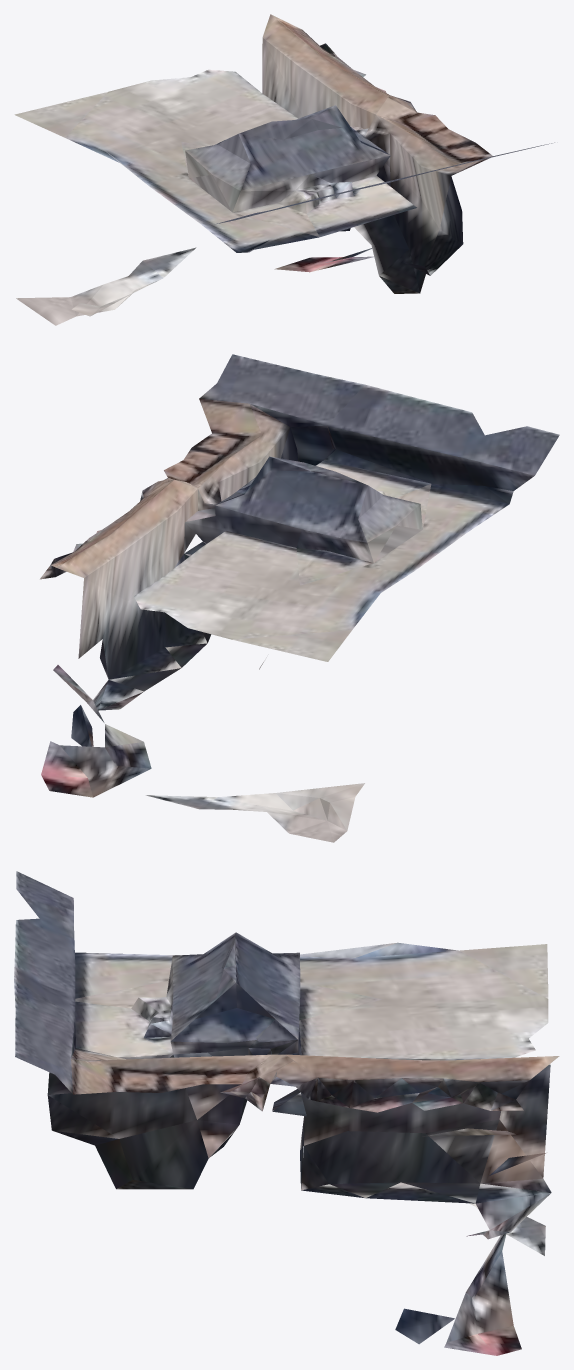
File: Tile_+000_+001_L17_00.glb
3 views of the same model, one above another, from view 1: azimuth 30°, elevation 25°; view 2: azimuth 150°, elevation 25°; view 3: azimuth 270°, elevation 25° (orthographic). The views are drawn at different scales.
Parts seen in each view (by area): view 1: rtc; view 2: rtc; view 3: rtc.
Boxes of the visible parts, left/top/right/bottom form: rtc: left=14, top=14, right=554, bottom=325; rtc: left=40, top=354, right=559, bottom=842; rtc: left=14, top=871, right=559, bottom=1355.
Bounding box in the file's own units: 49.16 × 37.71 × 59.43.
Materials: 1 (1 with a texture image).
